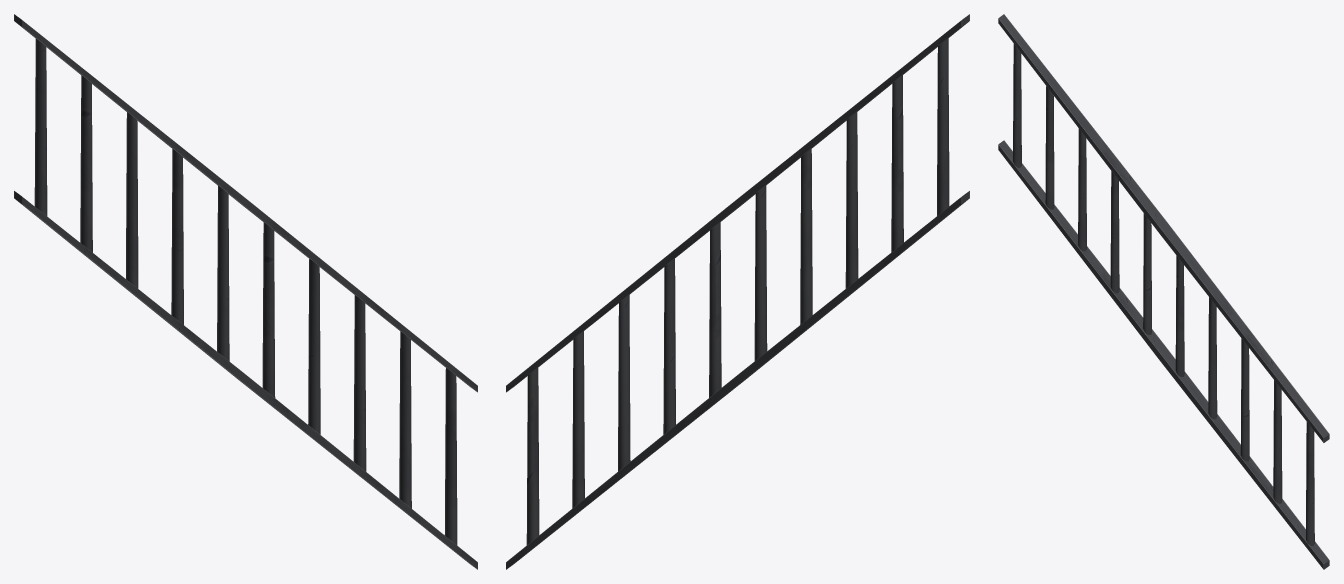
File: MOD_Stairs_03_Railing_straight_01_02.fbx
The picture shows the model from 3 angles, left to right: view 1: azimuth 30°, elevation 25°; view 2: azimuth 150°, elevation 25°; view 3: azimuth 330°, elevation 25°; orthographic projection. The views are drawn at different scales.
Parts seen in each view (by area): view 1: MOD_Stairs_03_Railing_straight_01_02; view 2: MOD_Stairs_03_Railing_straight_01_02; view 3: MOD_Stairs_03_Railing_straight_01_02.
Boxes of the visible parts, box(x1,y1,x2,y2) form: MOD_Stairs_03_Railing_straight_01_02: box(14, 14, 477, 569); MOD_Stairs_03_Railing_straight_01_02: box(506, 14, 969, 569); MOD_Stairs_03_Railing_straight_01_02: box(998, 14, 1329, 569).
Size of the model in its own units: 200 by 277 by 7.98.
